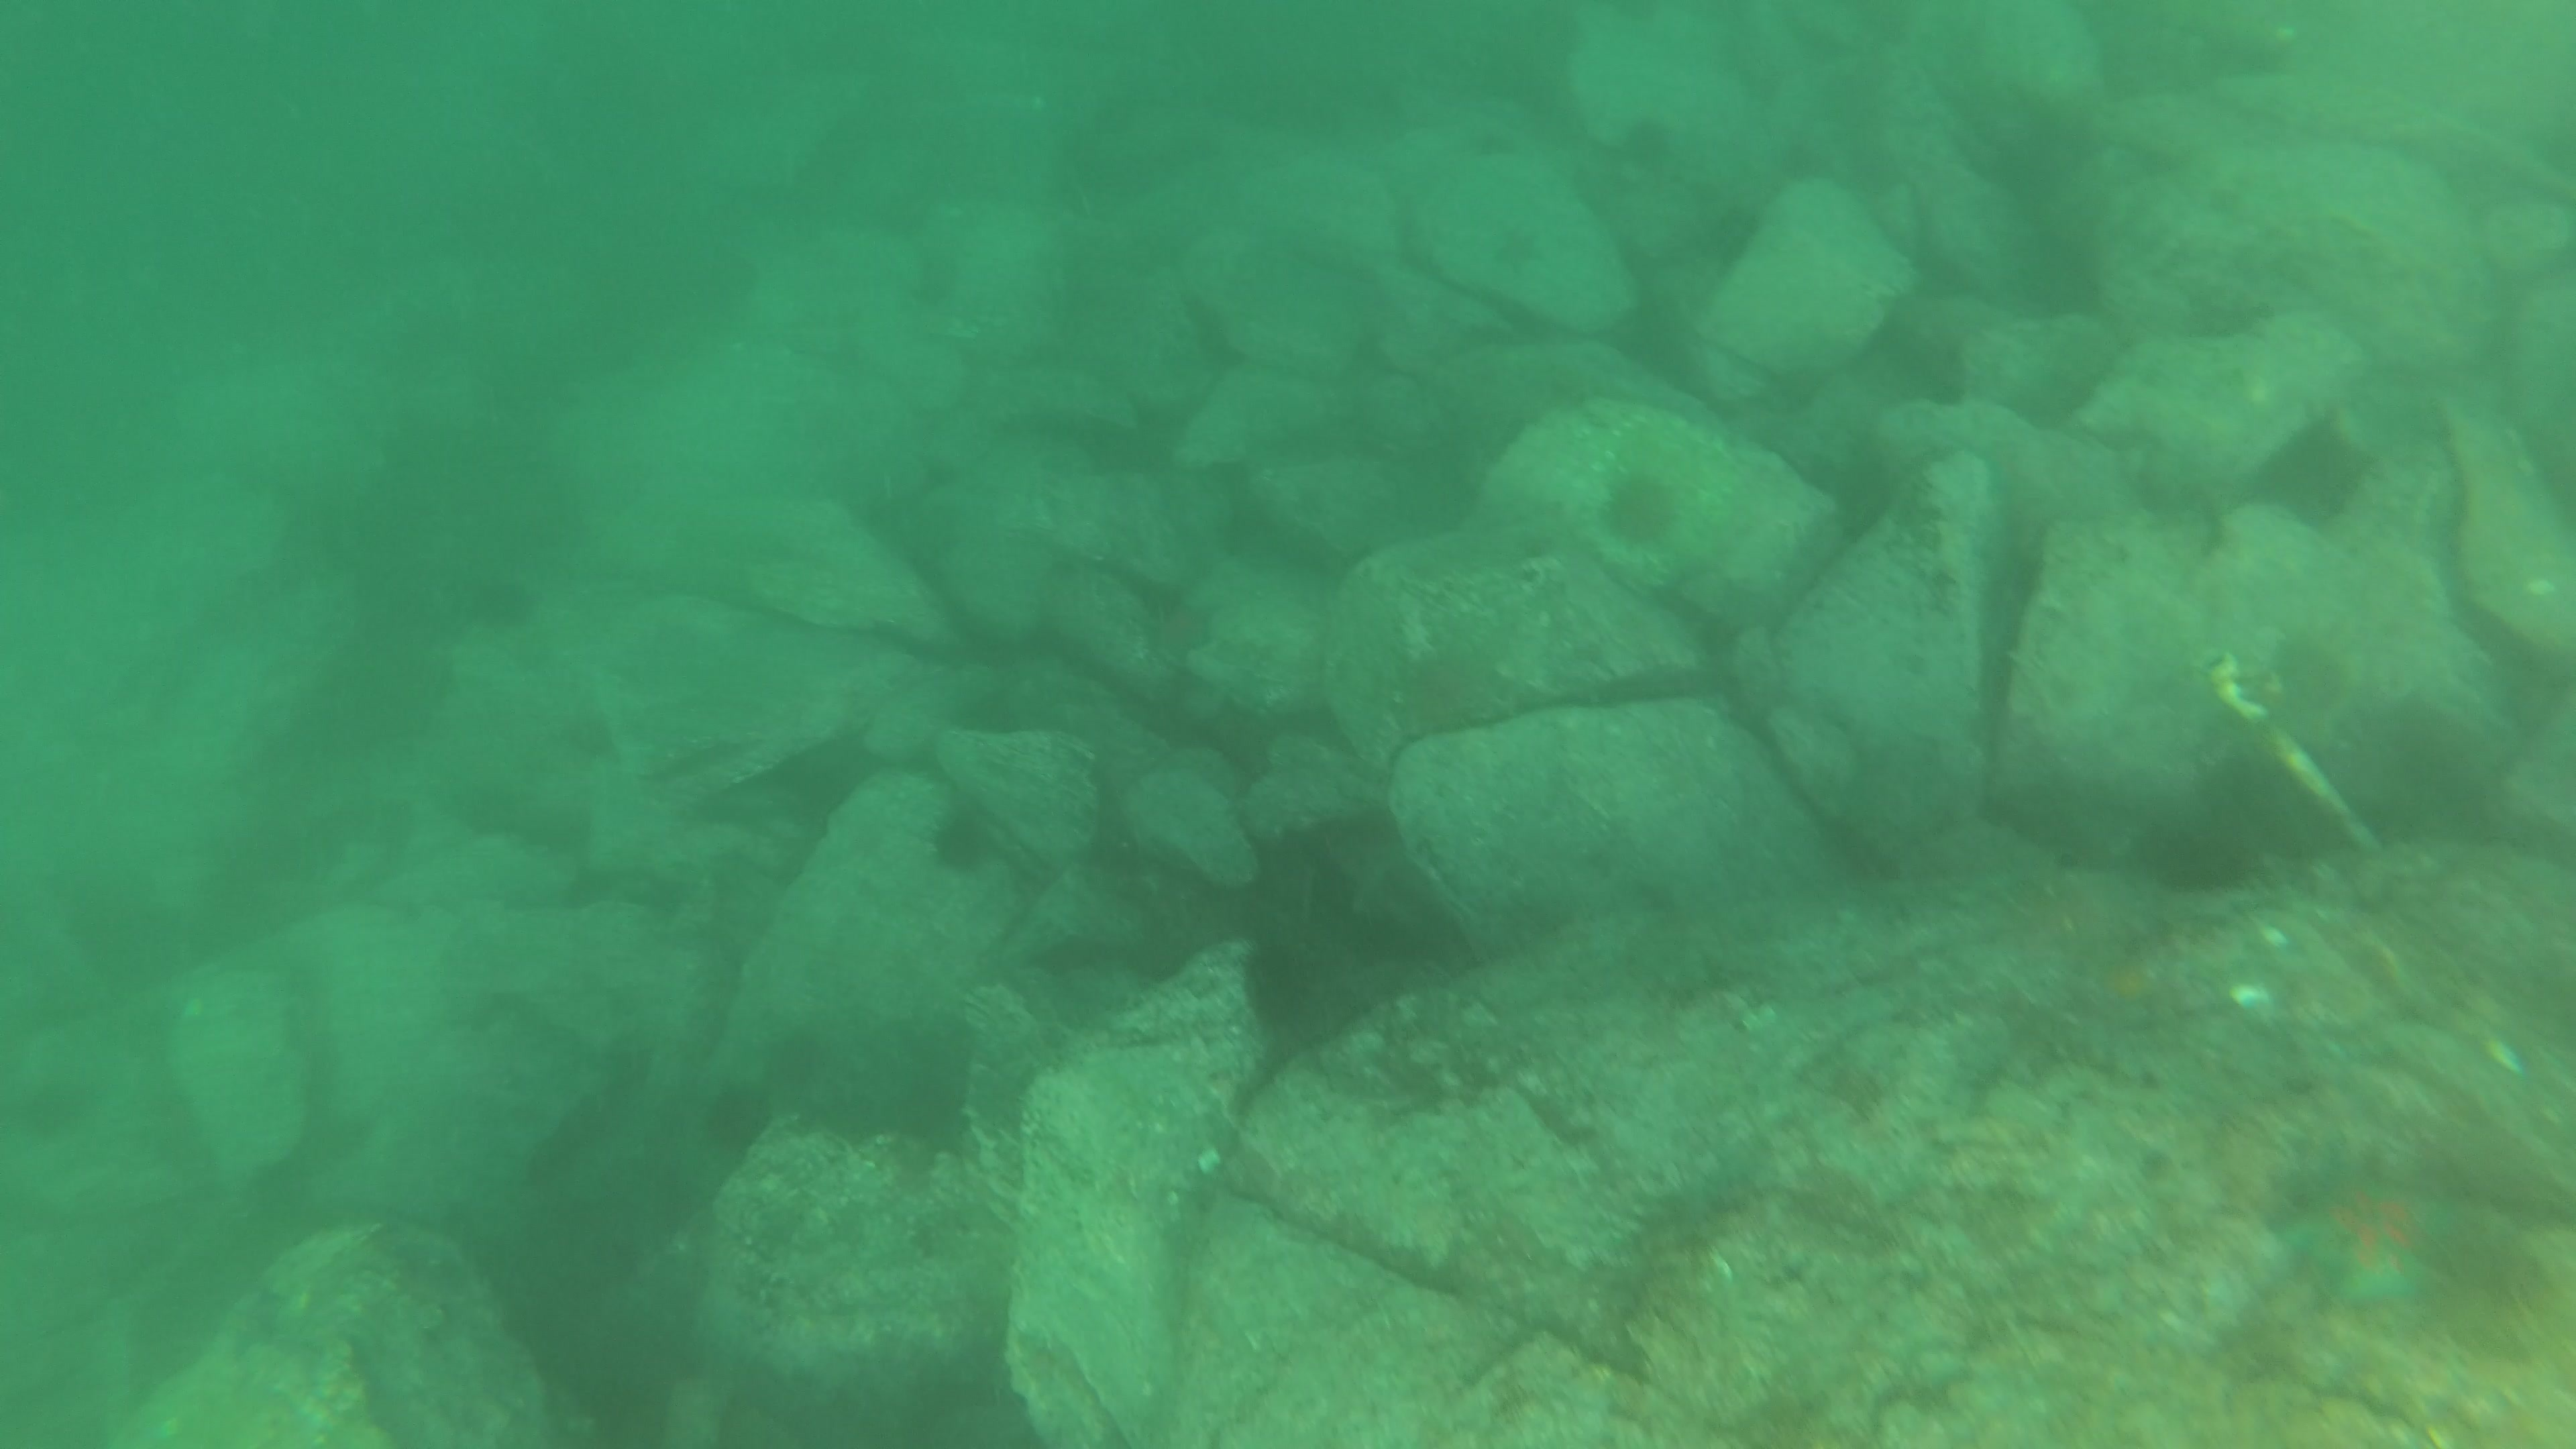echinus: (2135, 800, 2270, 902), (2263, 625, 2357, 727), (1594, 464, 1686, 556), (694, 1074, 780, 1166), (920, 796, 1003, 879), (458, 564, 543, 639)
starfish: (2270, 1148, 2477, 1318)
